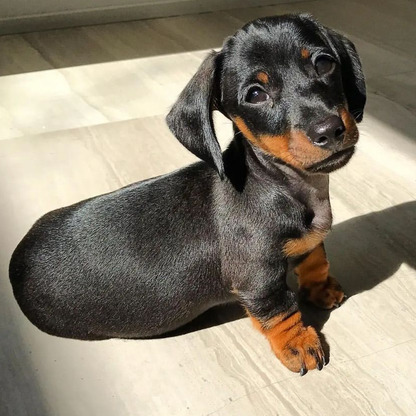dachshund: (27, 9, 393, 369)
